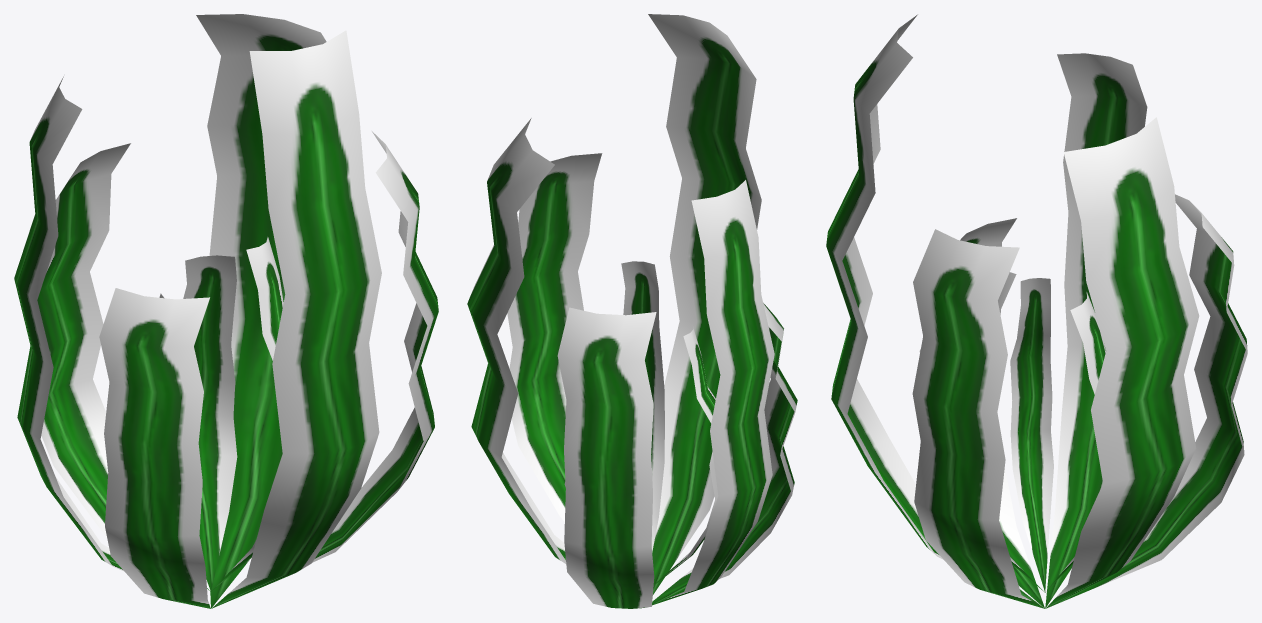
Rendered from Seawood 1.fbx.
The picture shows the model from 3 angles, left to right: view 1: azimuth 30°, elevation 25°; view 2: azimuth 150°, elevation 25°; view 3: azimuth 270°, elevation 25°; orthographic projection. The views are drawn at different scales.
Parts seen in each view (by area): view 1: Plane001; view 2: Plane001; view 3: Plane001.
Boxes of the visible parts, x1,y1,x2,y2 form: Plane001: (14, 14, 438, 608); Plane001: (467, 14, 797, 608); Plane001: (826, 14, 1247, 608).
Size of the model in its own units: 17.62 by 29.5 by 19.37.
